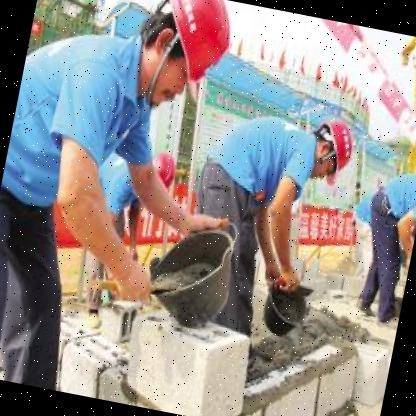capacete: (134, 0, 239, 114), (306, 115, 359, 185)
